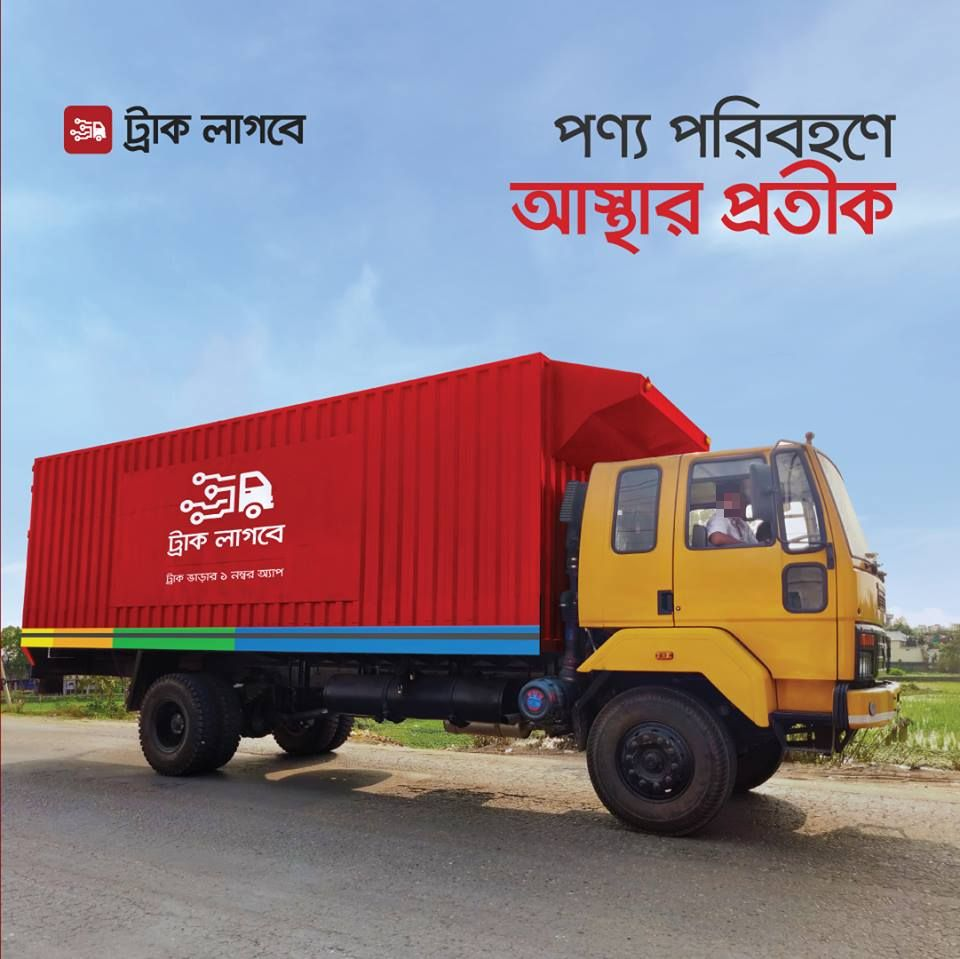truck: (22, 362, 893, 825)
